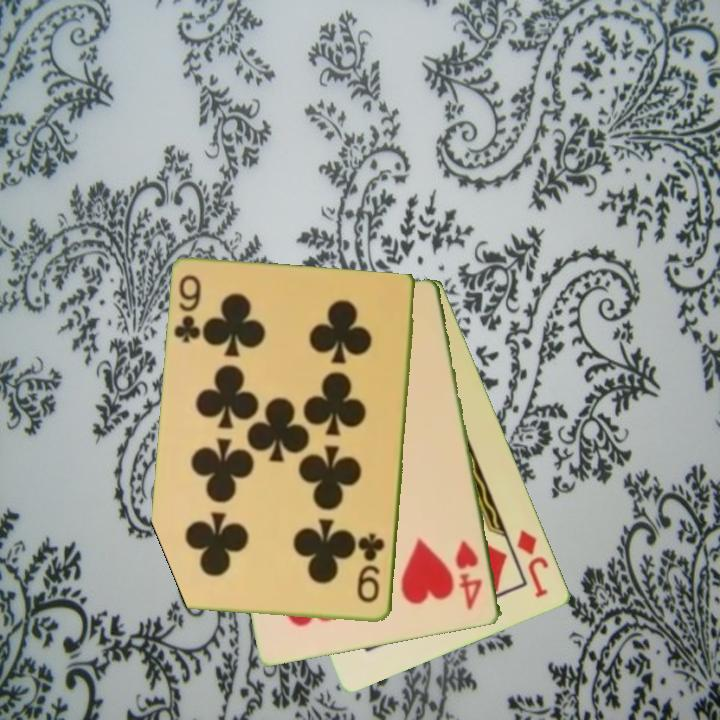4h: (452, 537, 486, 614)
9c: (170, 271, 205, 347), (355, 530, 388, 607)
Jd: (513, 527, 552, 601)
